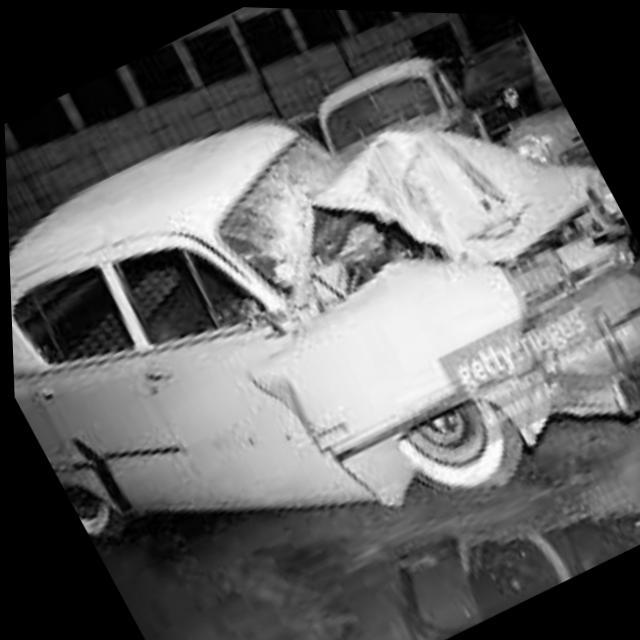crash: (201, 126, 640, 467)
